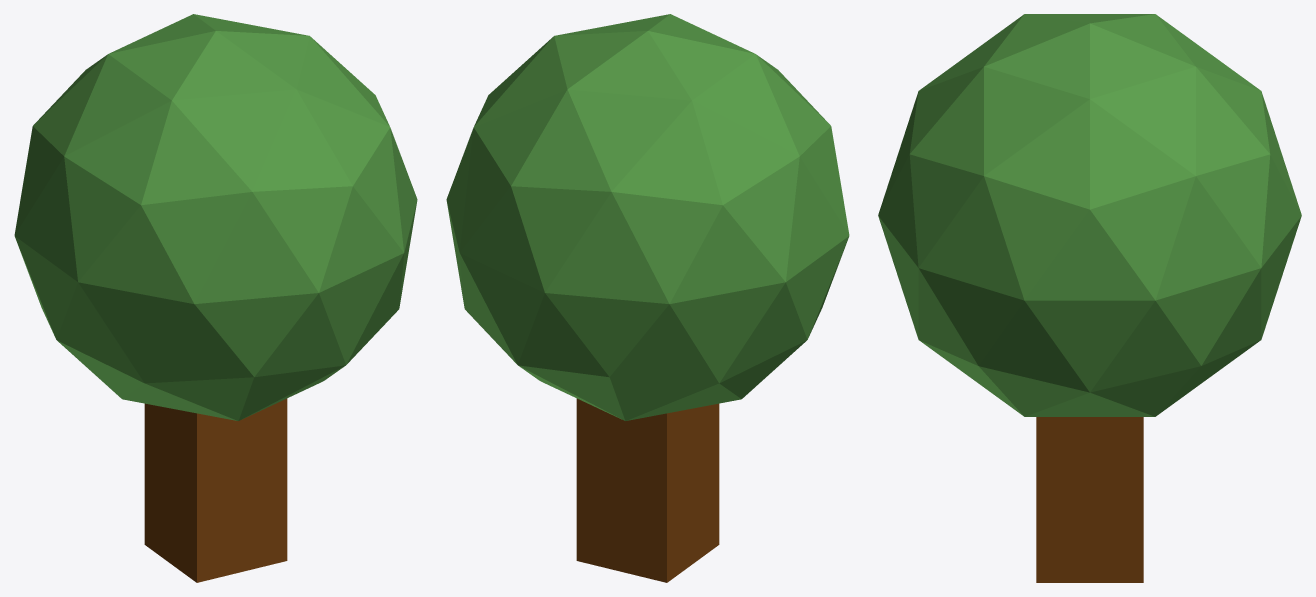
File: tree2.fbx
3 renders of one model, left to right at view 1: azimuth 30°, elevation 25°; view 2: azimuth 150°, elevation 25°; view 3: azimuth 270°, elevation 25°, orthographic. The views are drawn at different scales.
Parts seen in each view (by area): view 1: 棱角球, Cube; view 2: 棱角球, Cube; view 3: 棱角球, Cube.
Part boxes in pixels (x1,y1,x2,y2): 棱角球: [14, 14, 417, 420]; Cube: [144, 398, 287, 582]; 棱角球: [446, 14, 849, 420]; Cube: [576, 398, 719, 582]; 棱角球: [878, 14, 1301, 416]; Cube: [1036, 417, 1143, 582].
Size of the model in its own units: 751 by 1104 by 790.
